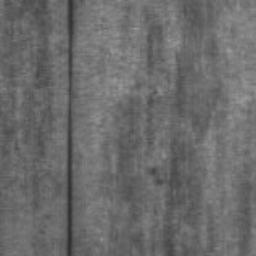Scratches: (66, 0, 74, 256)
